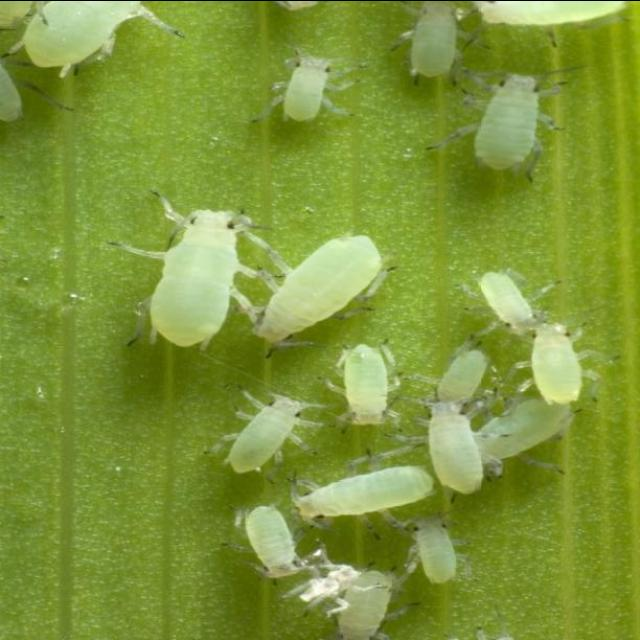Aphids: (206, 269, 624, 640), (380, 1, 586, 200), (91, 177, 274, 363), (233, 220, 404, 377), (252, 32, 356, 142)
